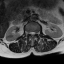CCS_normal: (31, 29, 33, 39)
LFS_normal: (35, 30, 37, 36)
LLS_normal: (33, 29, 35, 37)
RFS_normal: (27, 29, 29, 36)
RLS_normal: (29, 30, 31, 37)
